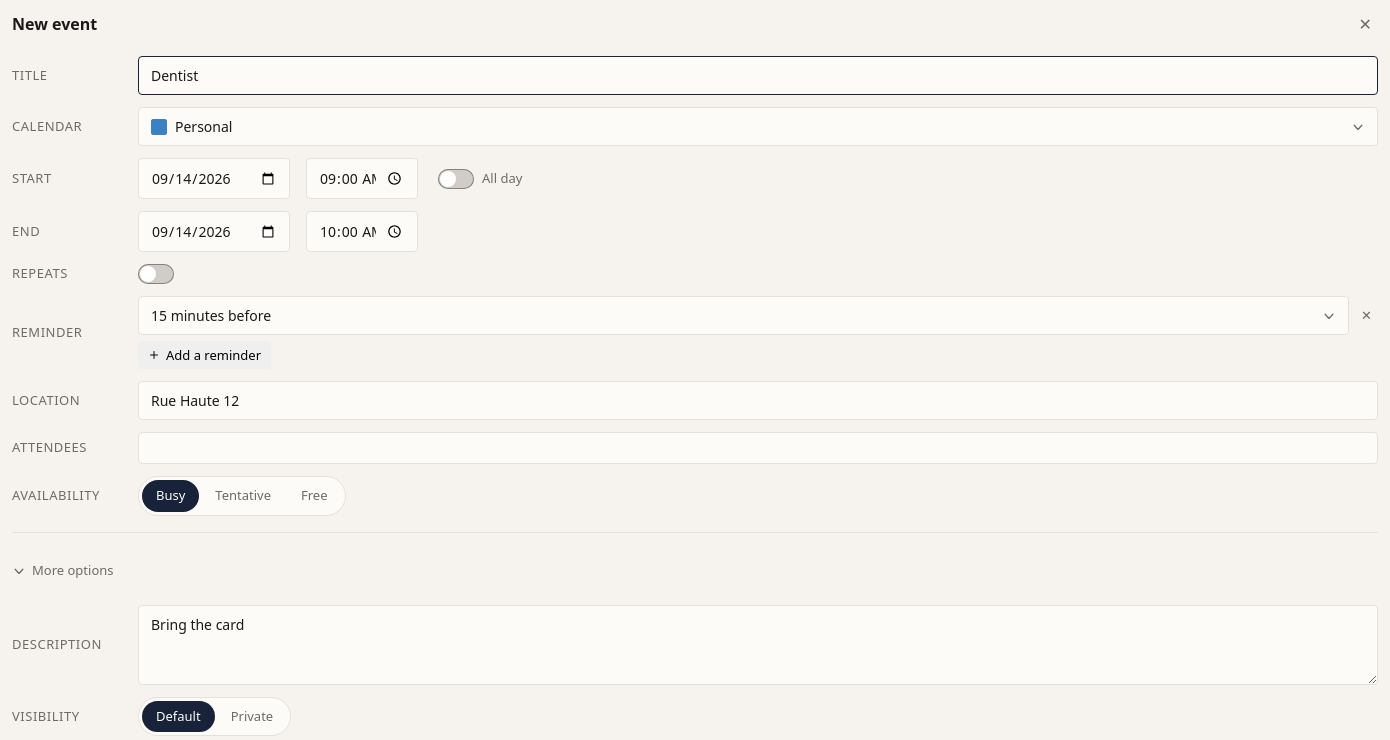
Scenario: EventEditor › turns on a weekly rule on the start weekday, and remembers a rule it was turned off on
This screenshot has width=1390, height=740.
Click the checkbox labelled "Repeats" at (40, 273), box 12,264 -> 68,282
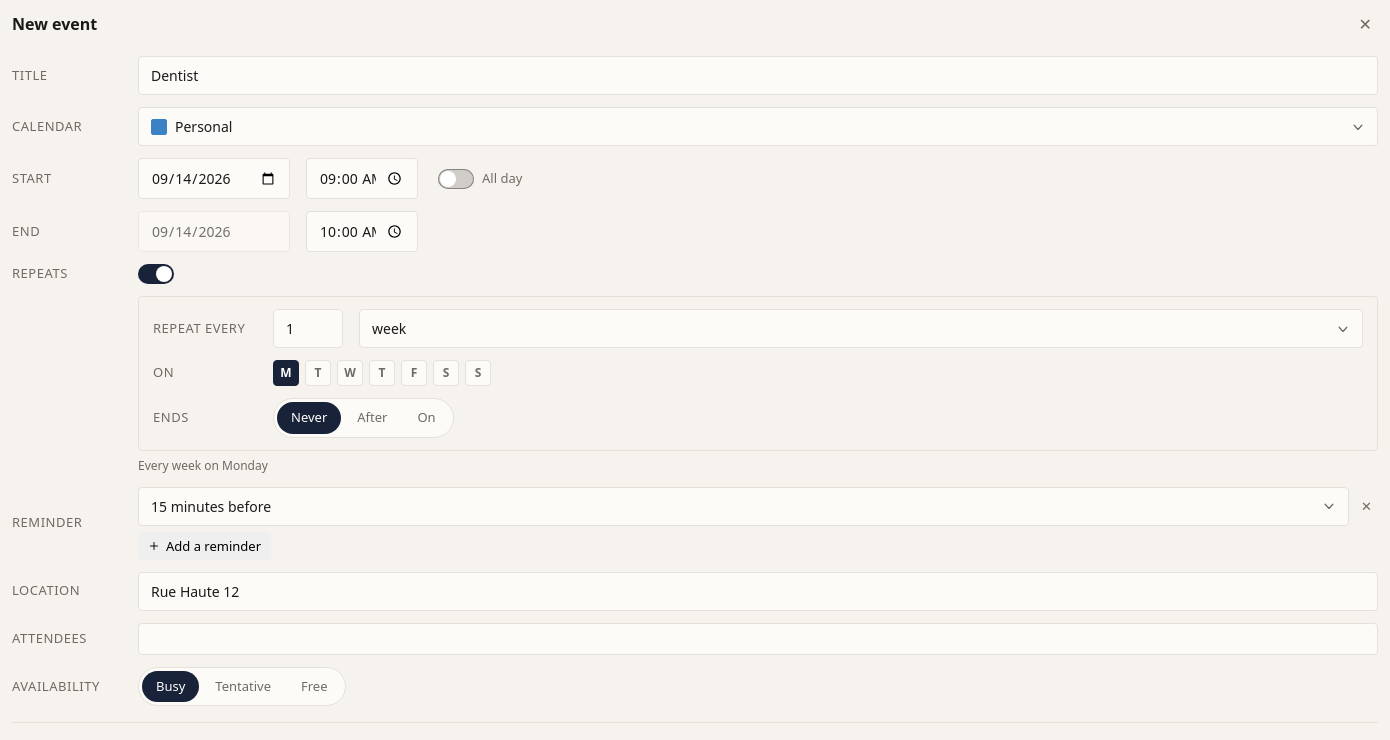
Expected: the checkbox named "Monday" is checked, 273,360 -> 299,386
Expected: the checkbox named "Tuesday" is not checked, 305,360 -> 331,386
Click the checkbox named "Wednesday" at (350, 373), box 337,360 -> 363,386
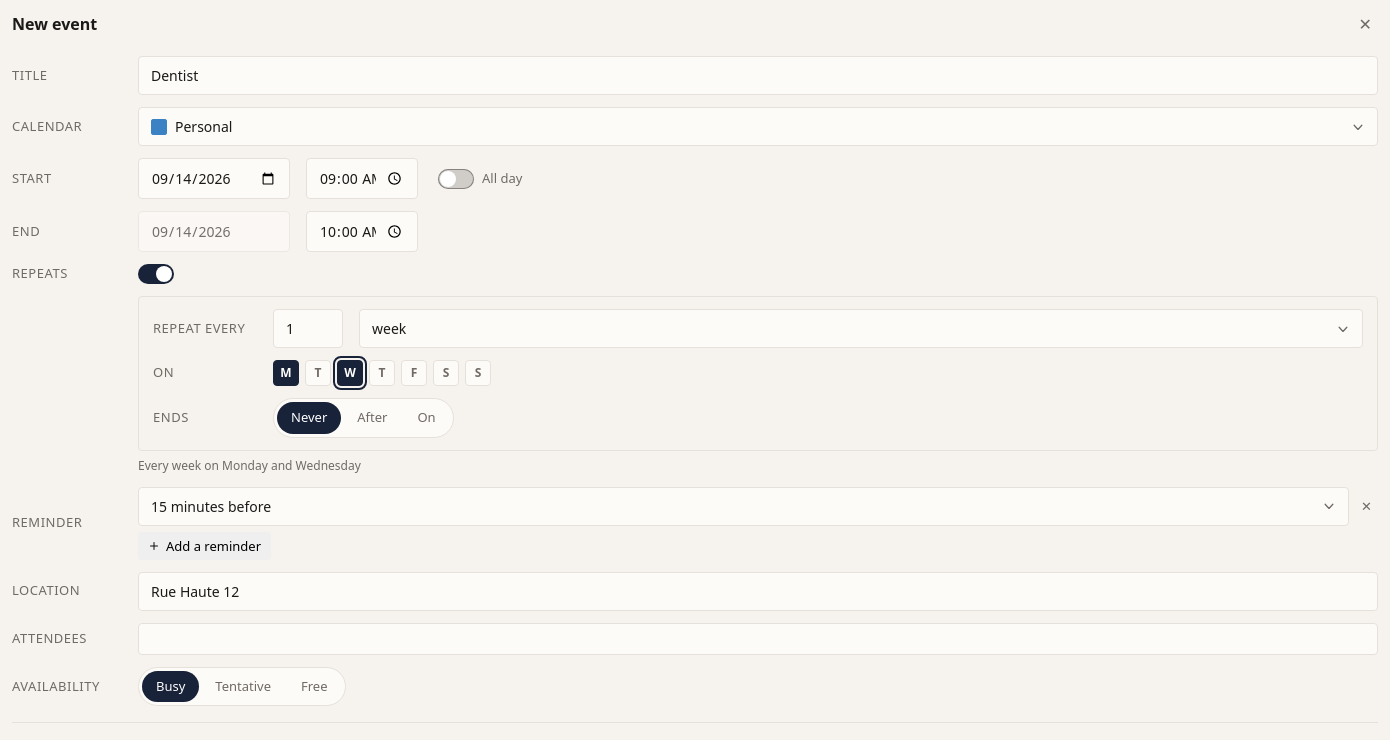
Click the checkbox labelled "Repeats" at (40, 273), box 12,264 -> 68,282
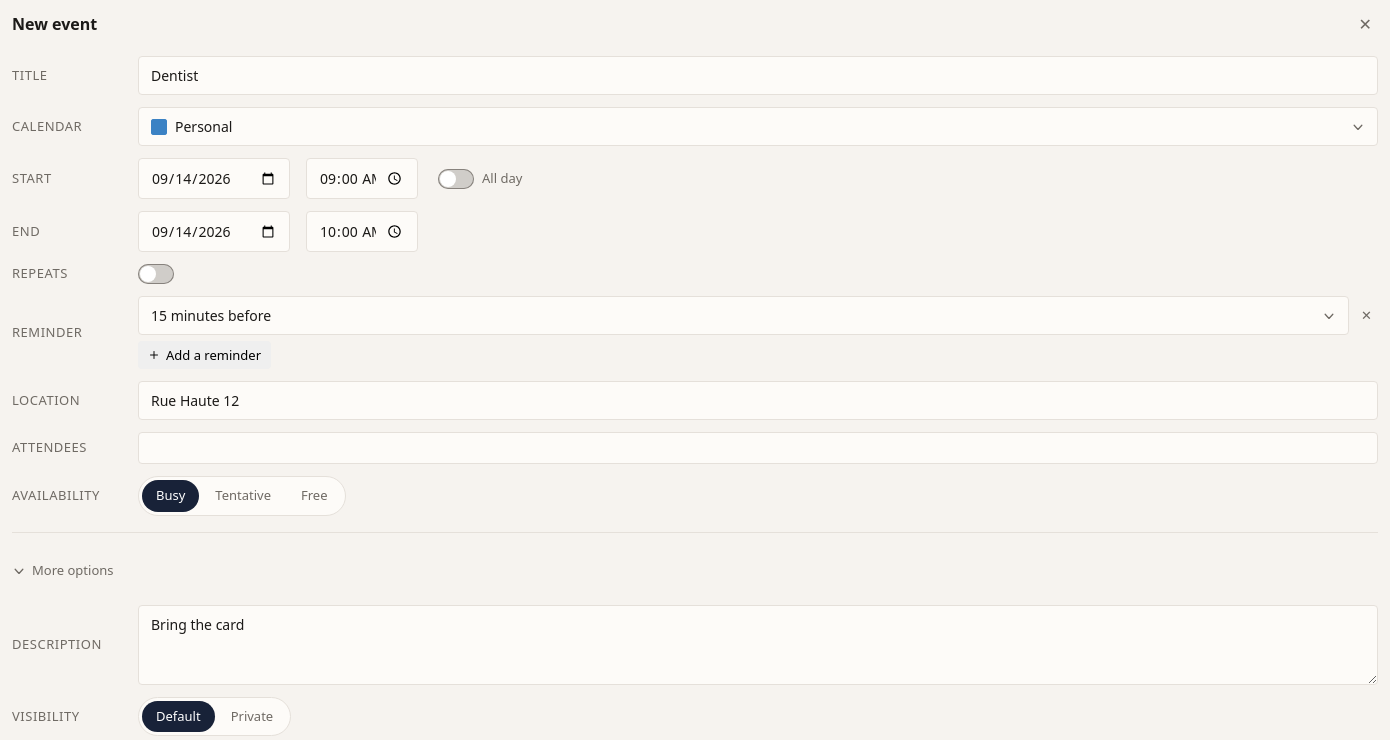
Expected: the text "Wednesday" is gone
Click the checkbox labelled "Repeats" at (40, 273), box 12,264 -> 68,282
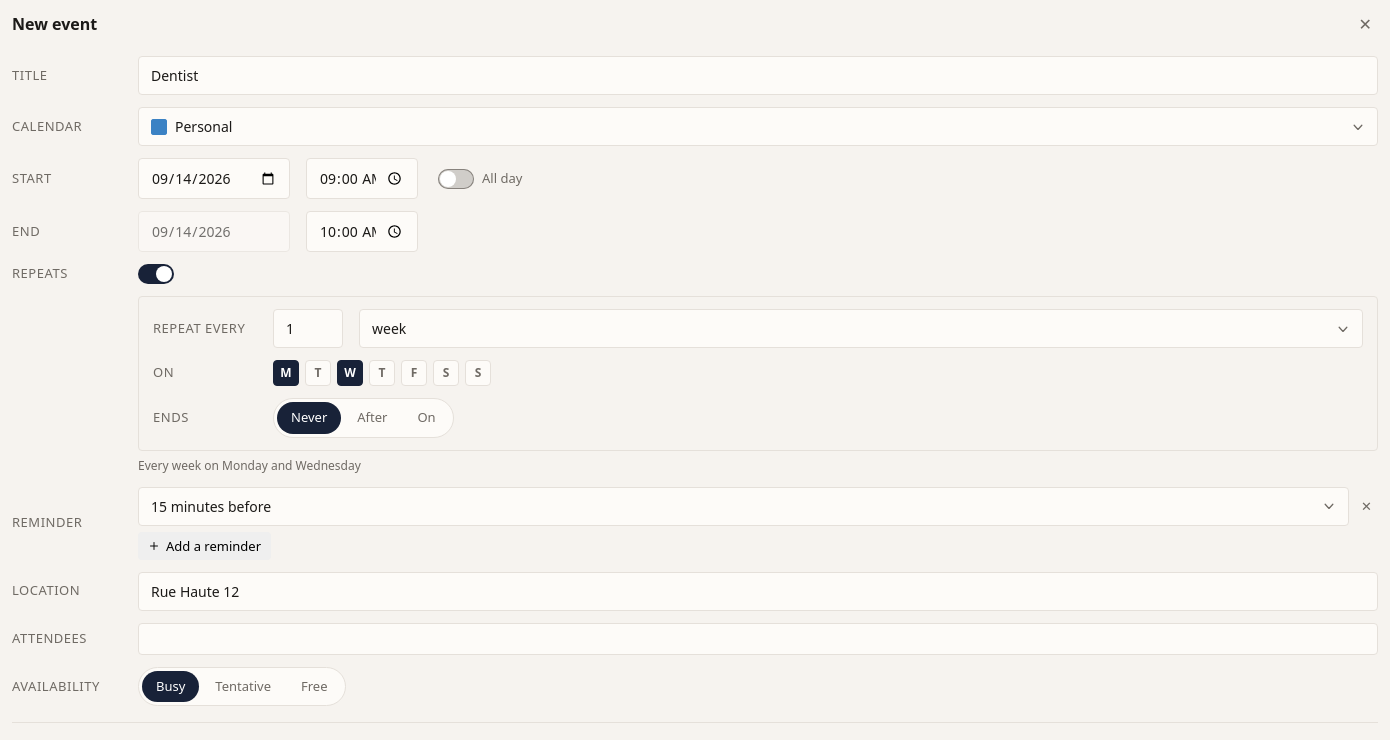
Expected: the checkbox named "Wednesday" is checked, 337,360 -> 363,386
